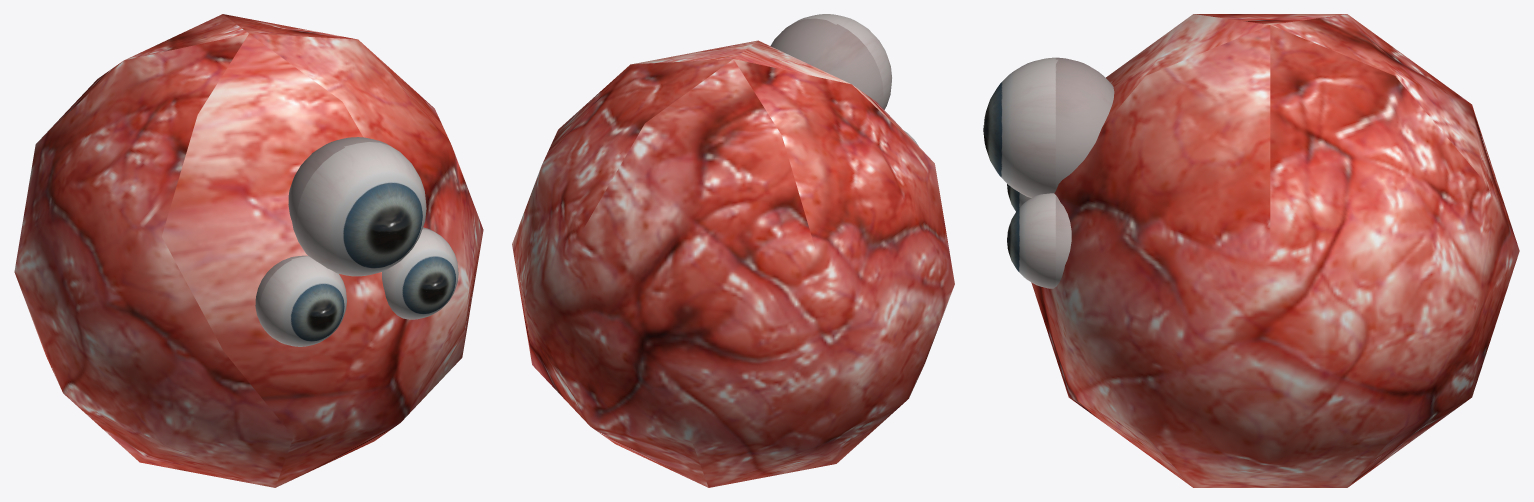
Rendered from Brain Monster.fbx.
3 views of the same model, side by side, from view 1: azimuth 30°, elevation 25°; view 2: azimuth 150°, elevation 25°; view 3: azimuth 270°, elevation 25° (orthographic). The views are drawn at different scales.
Parts seen in each view (by area): view 1: Brain Monster, small-eye.006, small-eye.004, small-eye.005; view 2: Brain Monster, small-eye.006; view 3: Brain Monster, small-eye.006, small-eye.005.
Part boxes in pixels (left/top/right/bottom): Brain Monster: left=14, top=14, right=483, bottom=487; small-eye.006: left=288, top=137, right=426, bottom=276; small-eye.004: left=255, top=255, right=346, bottom=346; small-eye.005: left=382, top=227, right=458, bottom=319; Brain Monster: left=512, top=40, right=954, bottom=487; small-eye.006: left=770, top=14, right=891, bottom=109; Brain Monster: left=1031, top=14, right=1519, bottom=487; small-eye.006: left=983, top=57, right=1114, bottom=197; small-eye.005: left=1007, top=193, right=1071, bottom=288.
Bounding box in the file's own units: 201 × 211 × 227.
